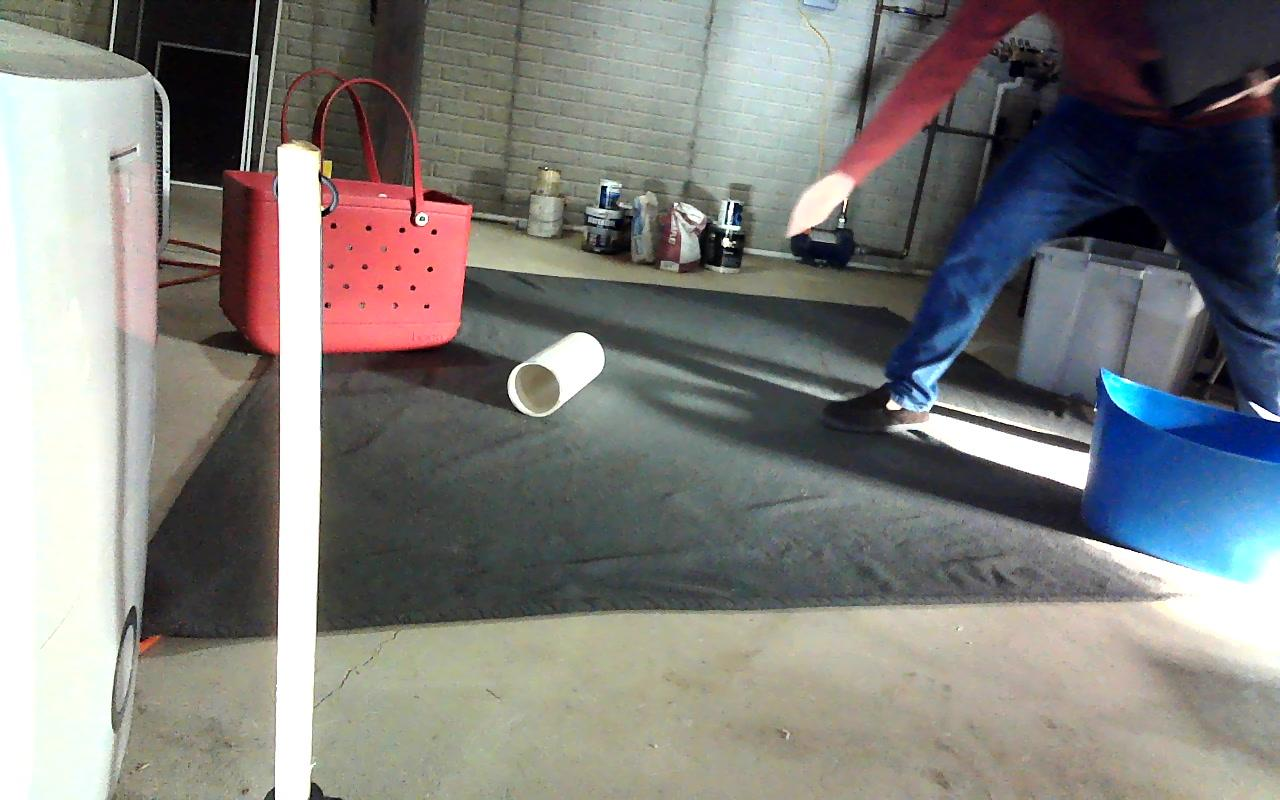coral: (508, 331, 605, 415)
